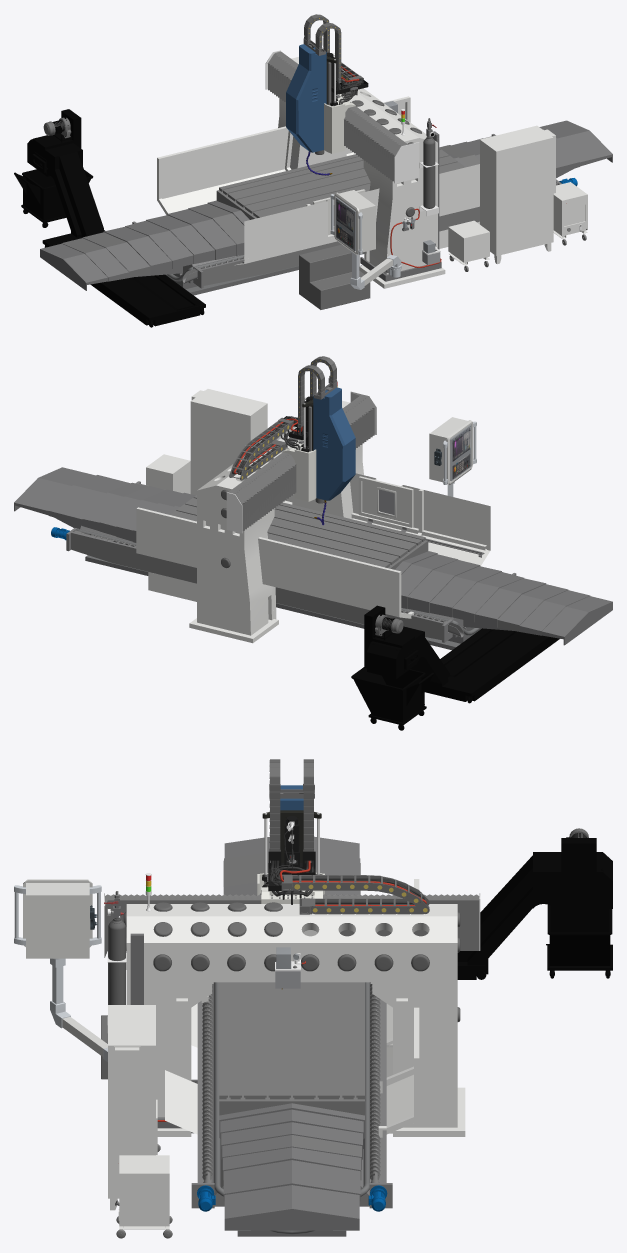
3 views of the same model, one above another, from view 1: azimuth 30°, elevation 25°; view 2: azimuth 150°, elevation 25°; view 3: azimuth 270°, elevation 25° (orthographic). The views are drawn at different scales.
Visible parts, largest first — view 1: gy-9030, gy-9133, gy-9014, gy-8977, gy-9106, gy-9015, gy-9012, gy-9086, gy-9103, gy-9024, gy-9013, gy-9121 (+13 smaller); view 2: gy-9030, gy-9133, gy-9106, gy-9014, gy-9013, gy-9015, gy-9024, gy-8977, gy-9012, gy-9028, gy-9137, gy-8997 (+11 smaller); view 3: gy-9106, gy-9015, gy-9013, gy-9133, gy-8977, gy-8997, gy-9024, gy-9014, gy-9089, gy-9121, gy-9030, gy-9164 (+15 smaller).
Boxes of the visible parts, left/top/right/bottom form: gy-9030: left=162, top=102, right=479, bottom=265; gy-9133: left=14, top=109, right=205, bottom=327; gy-9014: left=41, top=200, right=249, bottom=284; gy-8977: left=480, top=125, right=553, bottom=264; gy-9106: left=278, top=57, right=445, bottom=288; gy-9015: left=216, top=148, right=465, bottom=219; gy-9012: left=286, top=44, right=326, bottom=152; gy-9086: left=344, top=106, right=419, bottom=183; gy-9103: left=299, top=244, right=370, bottom=309; gy-9024: left=132, top=134, right=561, bottom=288; gy-9013: left=439, top=120, right=612, bottom=173; gy-9121: left=553, top=182, right=587, bottom=236; gy-9030: left=136, top=442, right=490, bottom=617; gy-9133: left=351, top=605, right=559, bottom=730; gy-9106: left=189, top=400, right=363, bottom=643; gy-9014: left=395, top=551, right=611, bottom=639; gy-9013: left=14, top=467, right=195, bottom=542; gy-9015: left=170, top=495, right=428, bottom=569; gy-9024: left=66, top=481, right=516, bottom=642; gy-8977: left=190, top=389, right=267, bottom=495; gy-9012: left=313, top=387, right=355, bottom=500; gy-9028: left=226, top=452, right=296, bottom=533; gy-9137: left=358, top=476, right=413, bottom=527; gy-8997: left=429, top=417, right=472, bottom=485; gy-9106: left=126, top=904, right=465, bottom=1136; gy-9015: left=219, top=982, right=364, bottom=1115; gy-9013: left=219, top=1103, right=364, bottom=1218; gy-9133: left=457, top=833, right=612, bottom=979; gy-8977: left=108, top=1005, right=155, bottom=1210; gy-8997: left=23, top=879, right=92, bottom=958; gy-9024: left=191, top=982, right=392, bottom=1208; gy-9014: left=223, top=837, right=360, bottom=895; gy-9089: left=281, top=874, right=429, bottom=914; gy-9121: left=119, top=1155, right=169, bottom=1225; gy-9030: left=165, top=1003, right=413, bottom=1134; gy-9164: left=214, top=982, right=369, bottom=1234.
Bounding box in the file's own units: 9.6 × 3.96 × 6.48.
46 materials, 1 textured.
